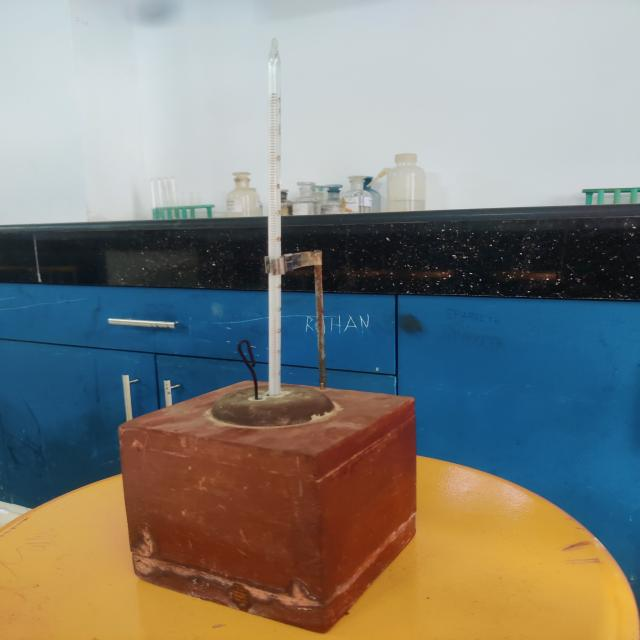Calorimeter: (103, 25, 436, 633)
